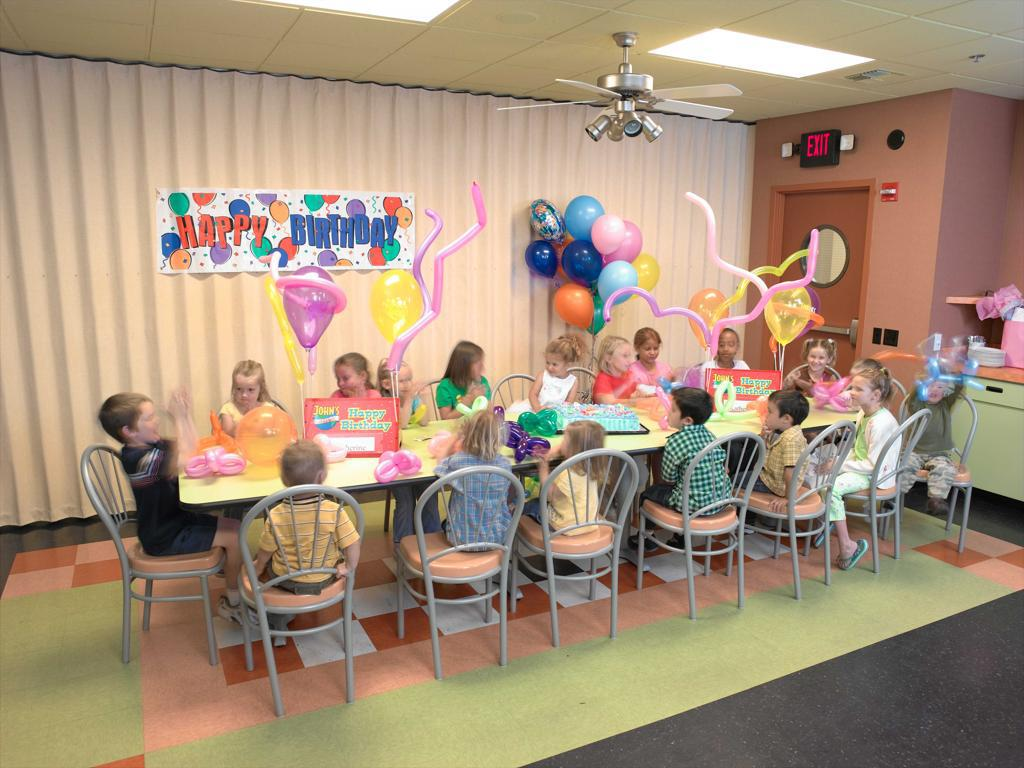face: (134, 404, 161, 444), (234, 378, 259, 408), (336, 367, 361, 396), (390, 368, 413, 397), (850, 377, 872, 406), (611, 346, 632, 372), (765, 401, 783, 430), (469, 351, 484, 382), (667, 401, 684, 428), (719, 336, 737, 361), (928, 379, 945, 404), (545, 355, 565, 376), (640, 343, 660, 364), (809, 348, 827, 371), (562, 431, 577, 457)
